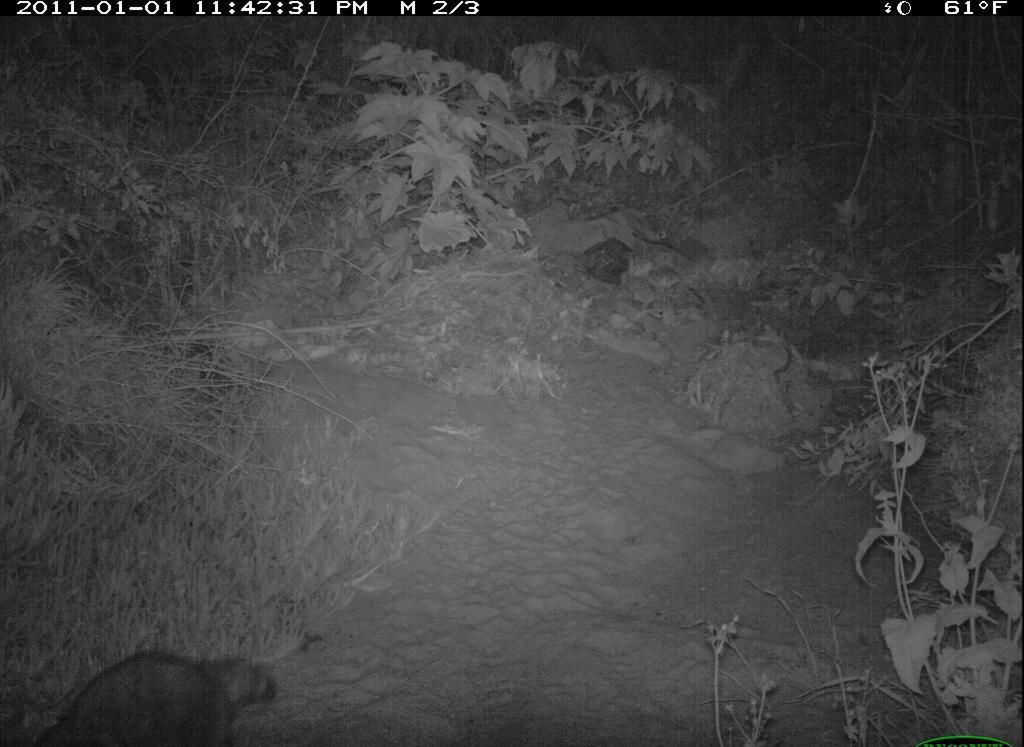raccoon: (21, 643, 280, 745)
